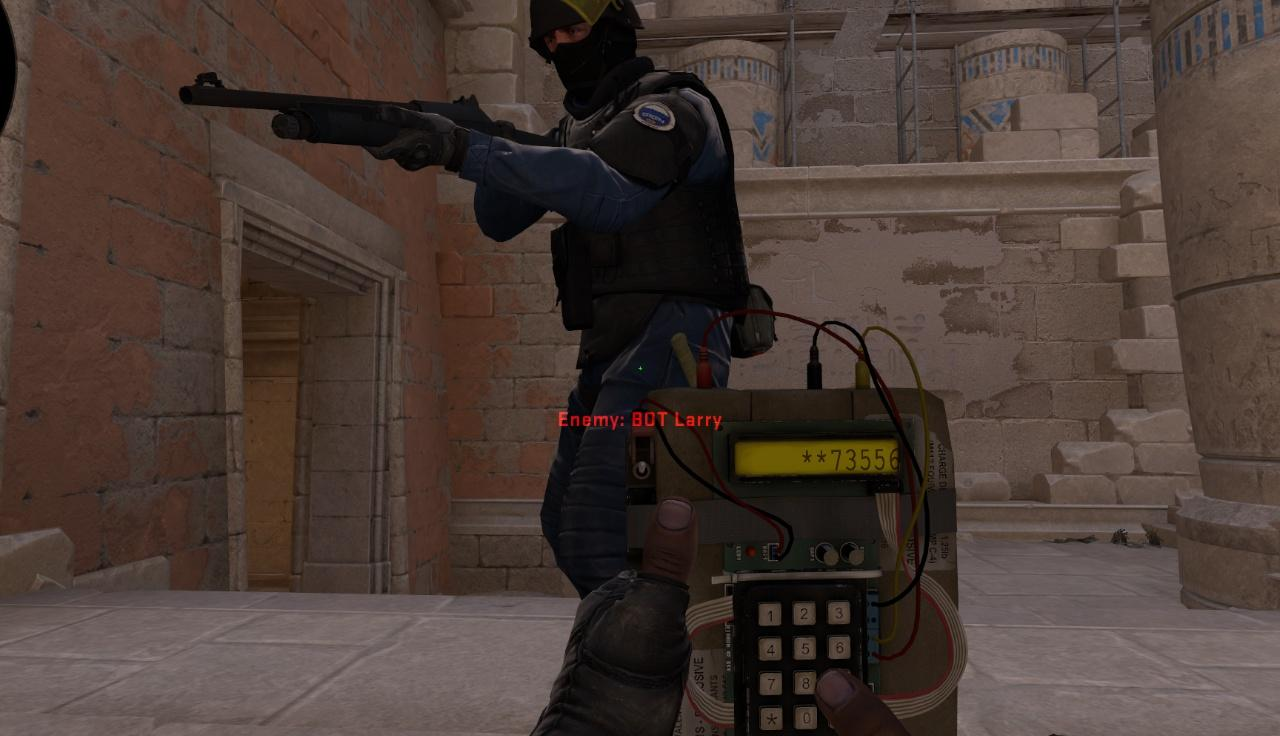ct: (380, 0, 738, 607)
cthead: (527, 0, 641, 94)
